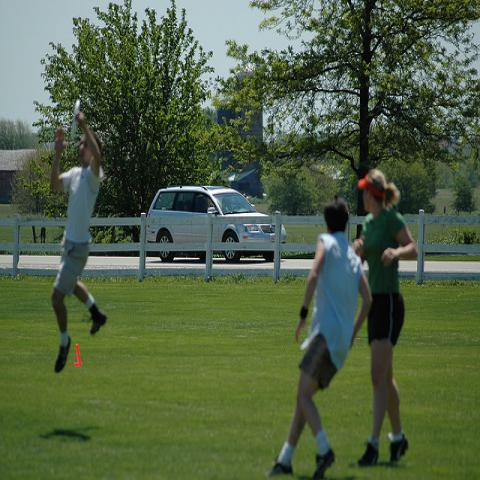car: (141, 187, 274, 247)
